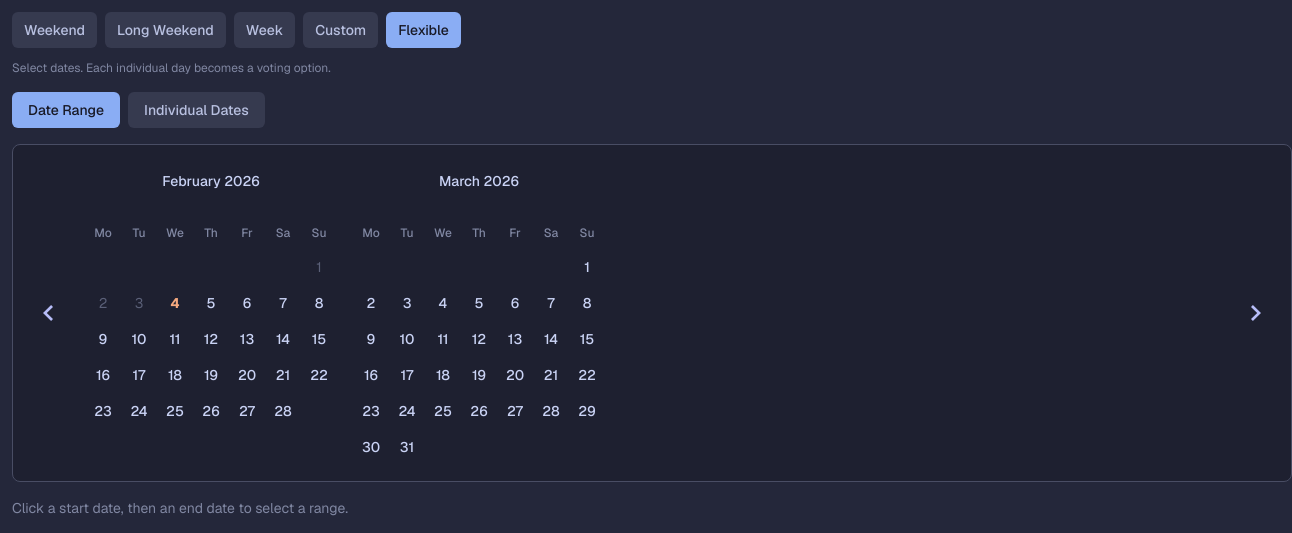
Scenario: CalendarPicker › mode toggle visibility › hides mode toggle in pattern mode
Note: Switch to weekend pattern
Click the button "Weekend" at x=54, y=30, box x1=12 y1=12 x2=97 y2=48
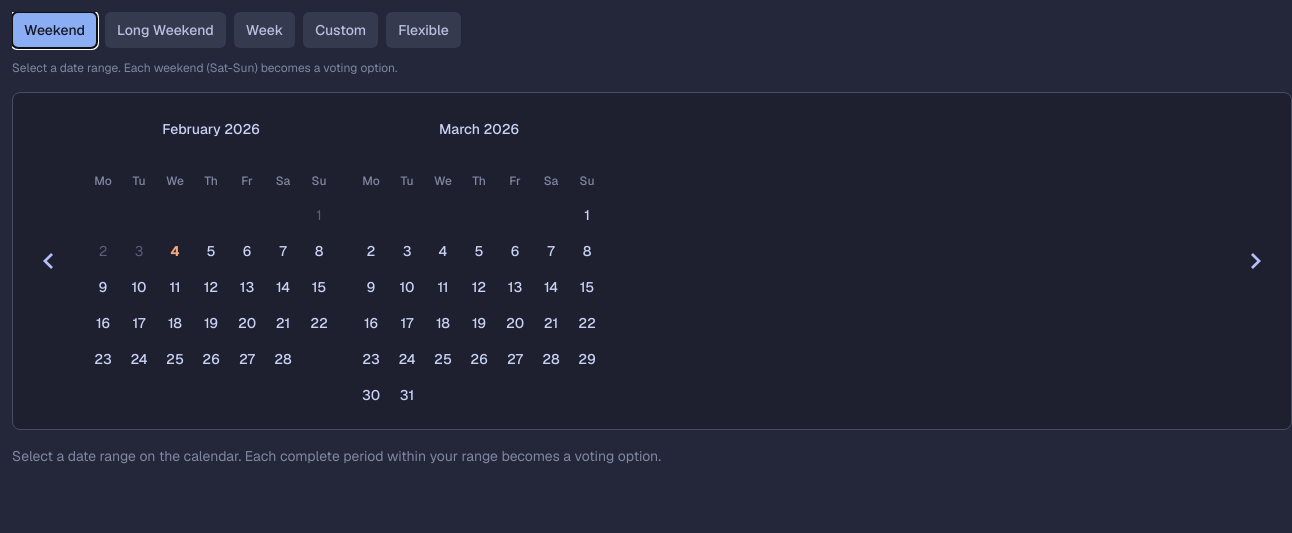
Now the button "Individual Dates" is gone
